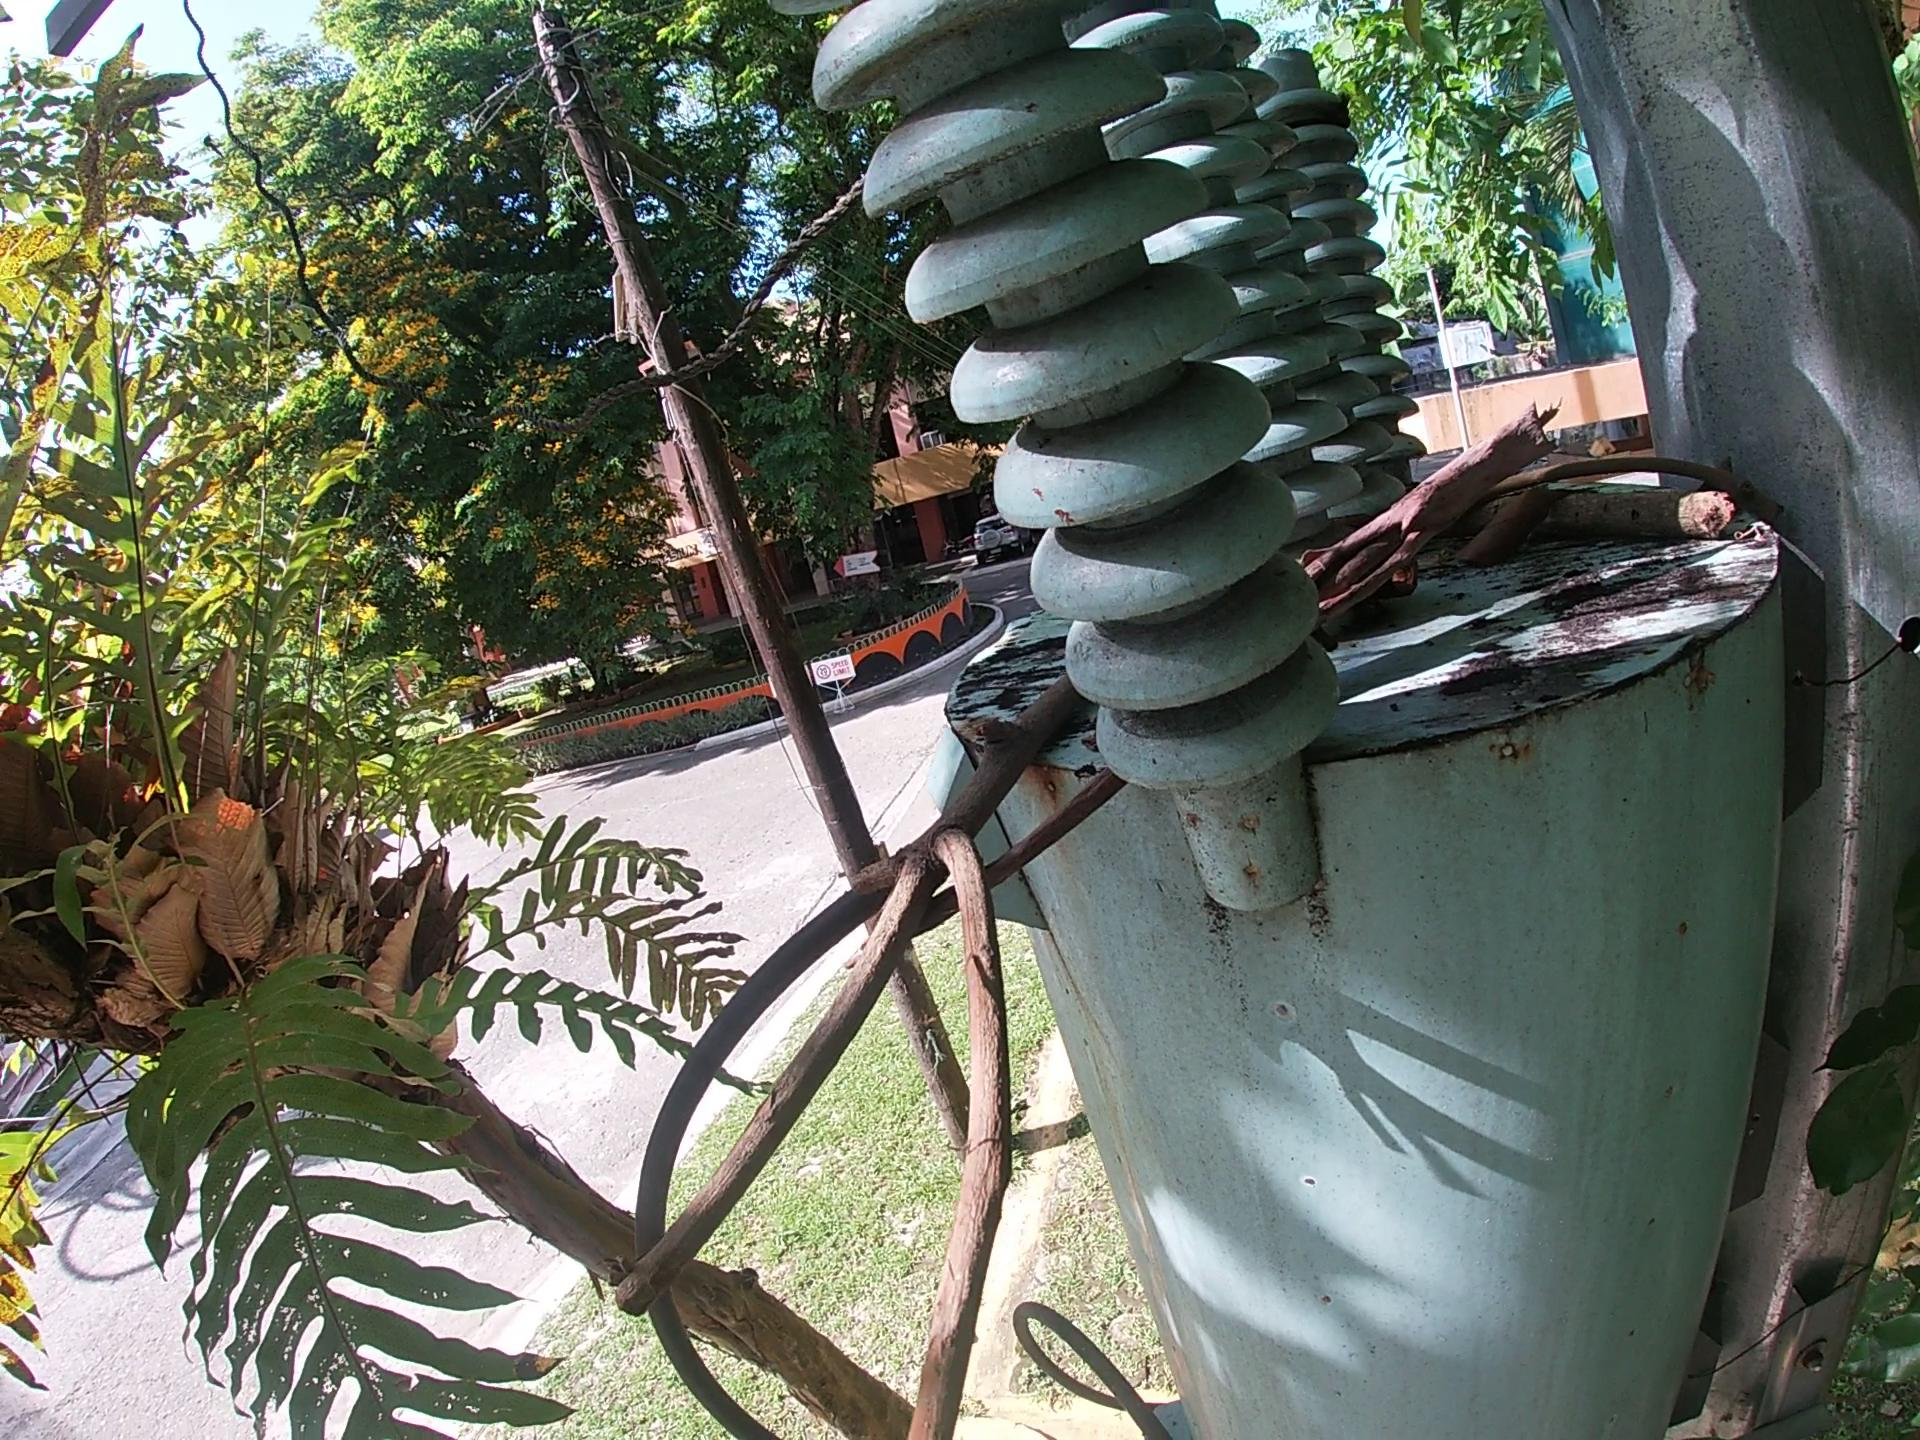leaf: (1445, 475, 1586, 575)
tree branch: (596, 666, 1098, 1440), (1302, 395, 1568, 635), (915, 765, 1129, 941), (1497, 451, 1801, 522), (1460, 479, 1739, 549)
